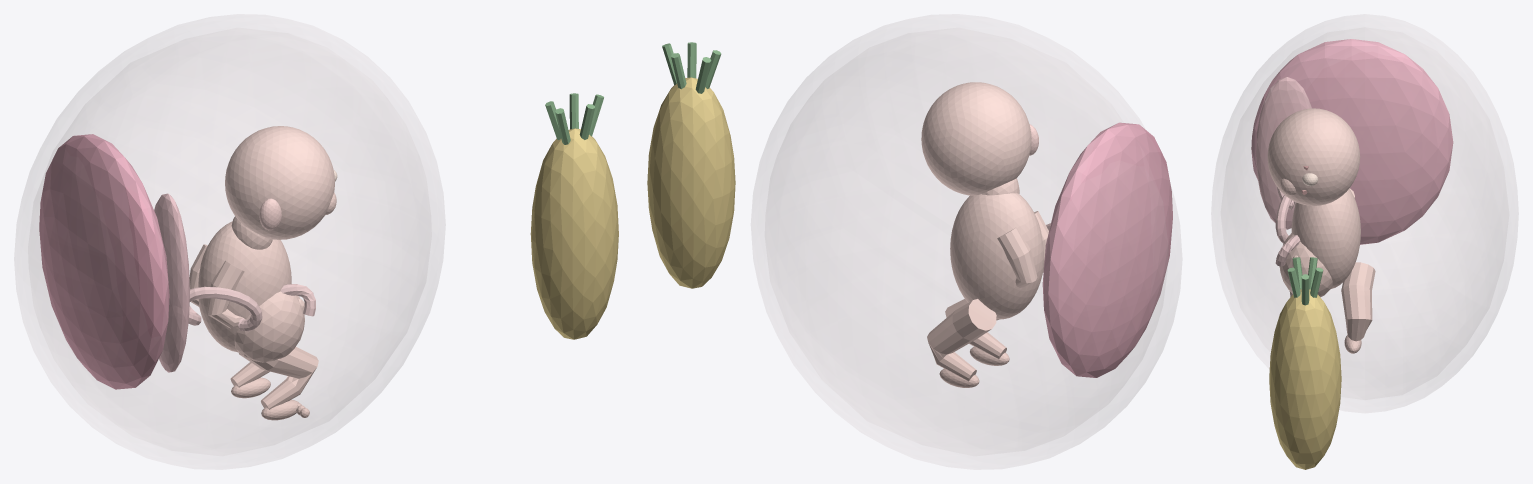
Rendered from hafta_33.glb.
3 renders of one model, left to right at view 1: azimuth 30°, elevation 25°; view 2: azimuth 150°, elevation 25°; view 3: azimuth 270°, elevation 25°, orthographic. The views are drawn at different scales.
Visible parts, largest first — view 1: Gebelik_kesesi_dis_zar_26, Plasenta_gelisen_doku_28, Sebze_Ananas_30, Bas_1, Gogus_govde_2, Plasenta_yumusak_yuzey_29, Gobel_ve_karin_3, Bacak_on_18, Gobek_kordonu_ogretici_24, Kol_on_11, Boyun_4; view 2: Gebelik_kesesi_dis_zar_26, Plasenta_gelisen_doku_28, Sebze_Ananas_30, Bas_1, Gogus_govde_2, Bacak_arka_16, Kol_on_arka_9, Bacak_on_18; view 3: Gebelik_kesesi_dis_zar_26, Plasenta_gelisen_doku_28, Sebze_Ananas_30, Bas_1, Gogus_govde_2, Plasenta_yumusak_yuzey_29, Bacak_arka_16, Gobel_ve_karin_3, Gobek_kordonu_ogretici_24.
Part boxes in pixels (x1,y1,x2,y2): Gebelik_kesesi_dis_zar_26: [14, 14, 445, 469]; Plasenta_gelisen_doku_28: [39, 134, 169, 389]; Sebze_Ananas_30: [530, 128, 618, 339]; Bas_1: [225, 126, 334, 239]; Gogus_govde_2: [198, 221, 291, 352]; Plasenta_yumusak_yuzey_29: [154, 193, 189, 372]; Gobel_ve_karin_3: [234, 291, 304, 362]; Bacak_on_18: [238, 347, 318, 409]; Gobek_kordonu_ogretici_24: [188, 284, 315, 331]; Kol_on_11: [206, 260, 245, 328]; Boyun_4: [231, 216, 272, 249]; Gebelik_kesesi_dis_zar_26: [751, 14, 1181, 469]; Plasenta_gelisen_doku_28: [1042, 122, 1172, 377]; Sebze_Ananas_30: [647, 77, 735, 288]; Bas_1: [921, 82, 1031, 195]; Gogus_govde_2: [950, 193, 1043, 319]; Bacak_arka_16: [927, 299, 996, 381]; Kol_on_arka_9: [997, 227, 1037, 287]; Bacak_on_18: [945, 299, 1006, 359]; Gebelik_kesesi_dis_zar_26: [1211, 14, 1518, 412]; Plasenta_gelisen_doku_28: [1251, 39, 1453, 244]; Sebze_Ananas_30: [1269, 289, 1341, 469]; Bas_1: [1267, 108, 1360, 205]; Gogus_govde_2: [1291, 188, 1360, 288]; Plasenta_yumusak_yuzey_29: [1255, 77, 1311, 229]; Bacak_arka_16: [1341, 262, 1375, 341]; Gobel_ve_karin_3: [1279, 233, 1332, 297]; Gobek_kordonu_ogretici_24: [1275, 187, 1300, 266].
Bounding box in the file's own units: 10.83 × 8.1 × 6.2.
